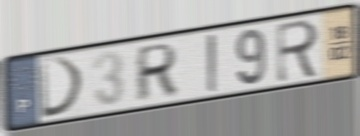3: (91, 49, 127, 109)
9: (234, 28, 267, 87)
D: (37, 55, 87, 122)
I: (205, 31, 220, 95)
R: (275, 17, 321, 85), (134, 40, 180, 105)
